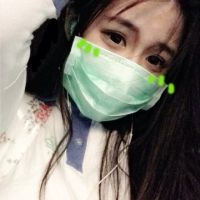face_mask: (72, 0, 179, 115)
